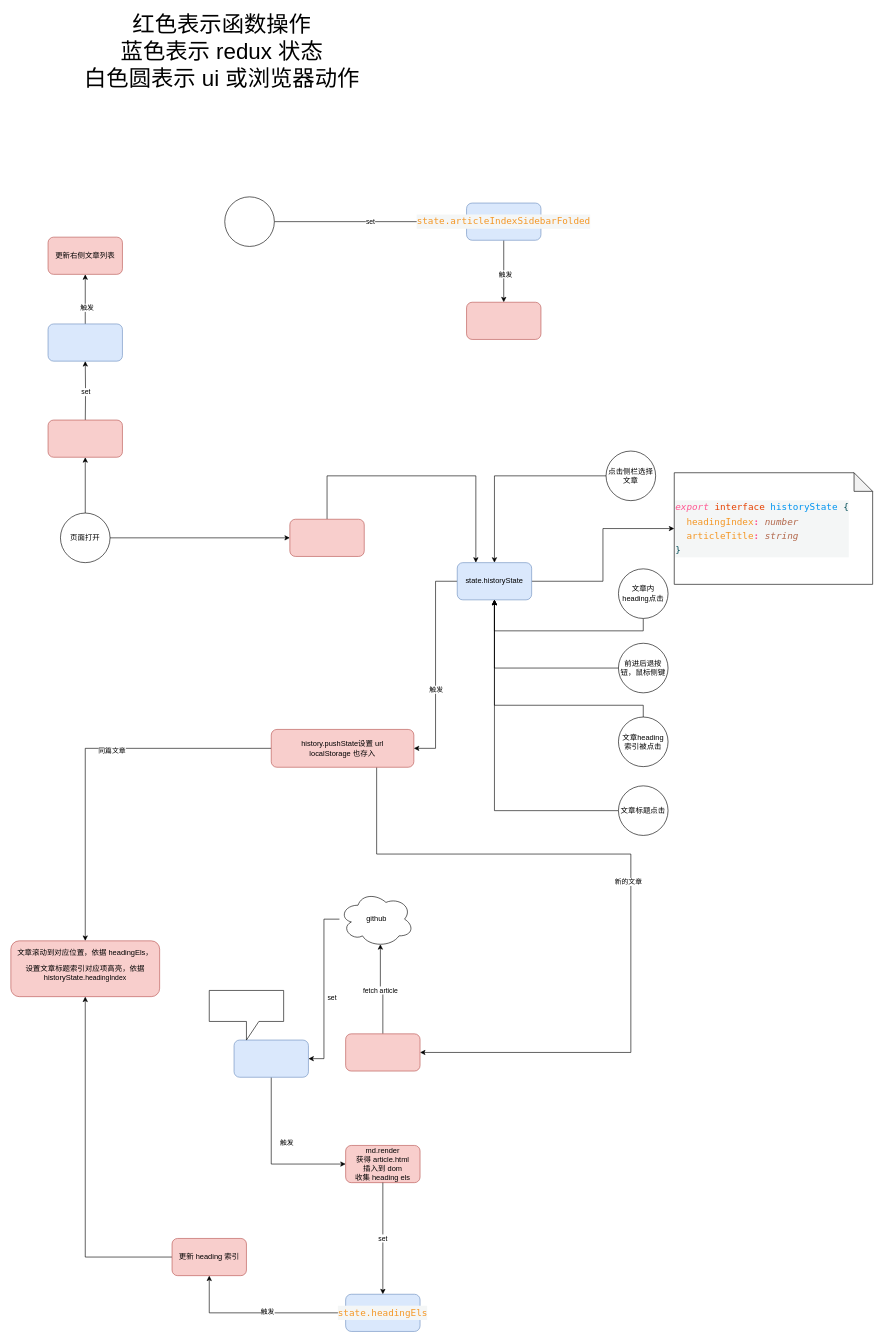
Image size: 884x1342. Some labels were removed from this diagram. The box of each missing label's shape, as (x1, y1, x2, y2) in pixels:
fetcher: (345, 1033, 420, 1071)
state.articleContent: (233, 1039, 308, 1077)
state.articleTitles: (47, 323, 122, 361)
从 localStorage 读取上一次的阅读信息: (289, 519, 364, 556)
加载目录文件: (47, 419, 122, 457)
文章内容变模糊: (466, 302, 541, 339)
文章索引侧边栏展开: (224, 196, 274, 246)
这里之后需要做缓存，而不是每次请求: (209, 990, 284, 1040)
